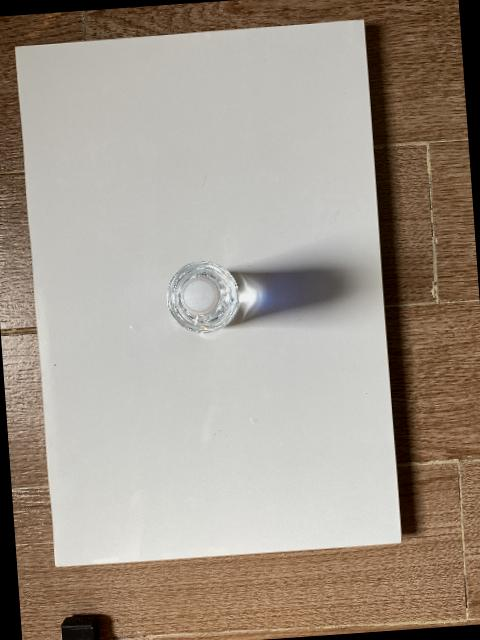aquafina: (166, 261, 239, 333)
